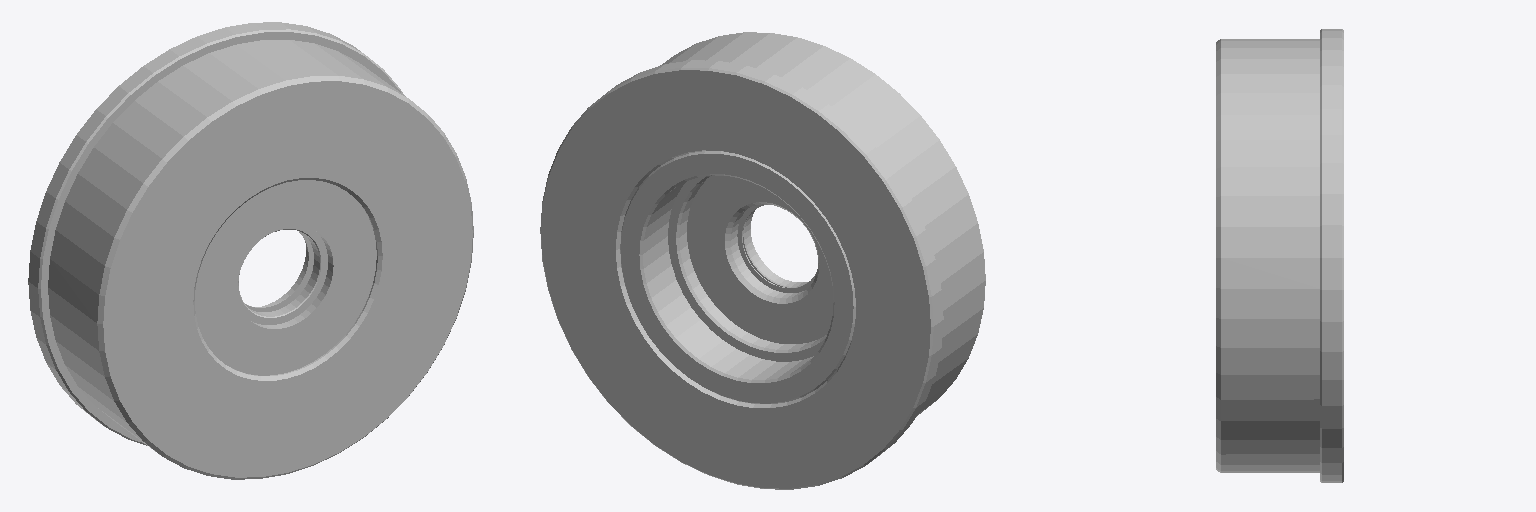
Rendered from KS1RS_Lens.obj.
The picture shows the model from 3 angles: view 1: azimuth 30°, elevation 25°; view 2: azimuth 150°, elevation 25°; view 3: azimuth 270°, elevation 25°; orthographic projection.
Parts seen in each view (by area): view 1: polySurface1302 group161; view 2: polySurface1302 group161; view 3: polySurface1302 group161.
Boxes of the visible parts, x1,y1,x2,y2 form: polySurface1302 group161: [28, 22, 473, 479]; polySurface1302 group161: [540, 32, 985, 489]; polySurface1302 group161: [1216, 29, 1343, 482].
Size of the model in its own units: 52.71 by 52.71 by 14.86.